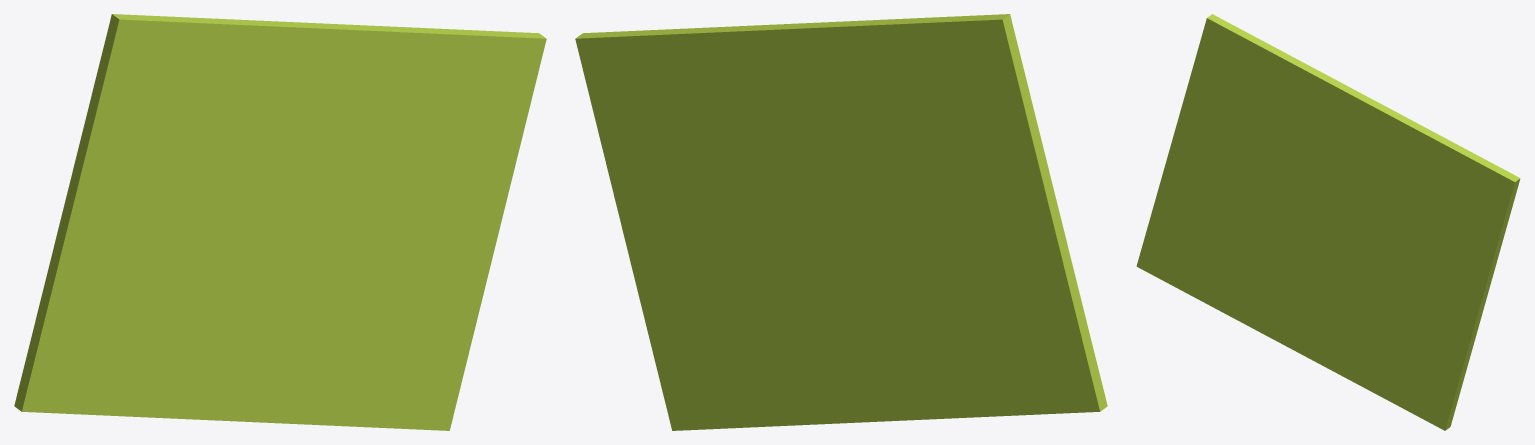
3 views of the same model, side by side, from view 1: azimuth 30°, elevation 25°; view 2: azimuth 150°, elevation 25°; view 3: azimuth 330°, elevation 25° (orthographic). The views are drawn at different scales.
Visible parts, largest first — view 1: osm-way27917482-F3; view 2: osm-way27917482-F3; view 3: osm-way27917482-F3.
Part boxes in pixels (x1,y1,x2,y2): osm-way27917482-F3: [14, 14, 546, 430]; osm-way27917482-F3: [575, 14, 1107, 430]; osm-way27917482-F3: [1136, 14, 1520, 430].
Bounding box in the file's own units: 5.98 × 5.36 × 0.15.
